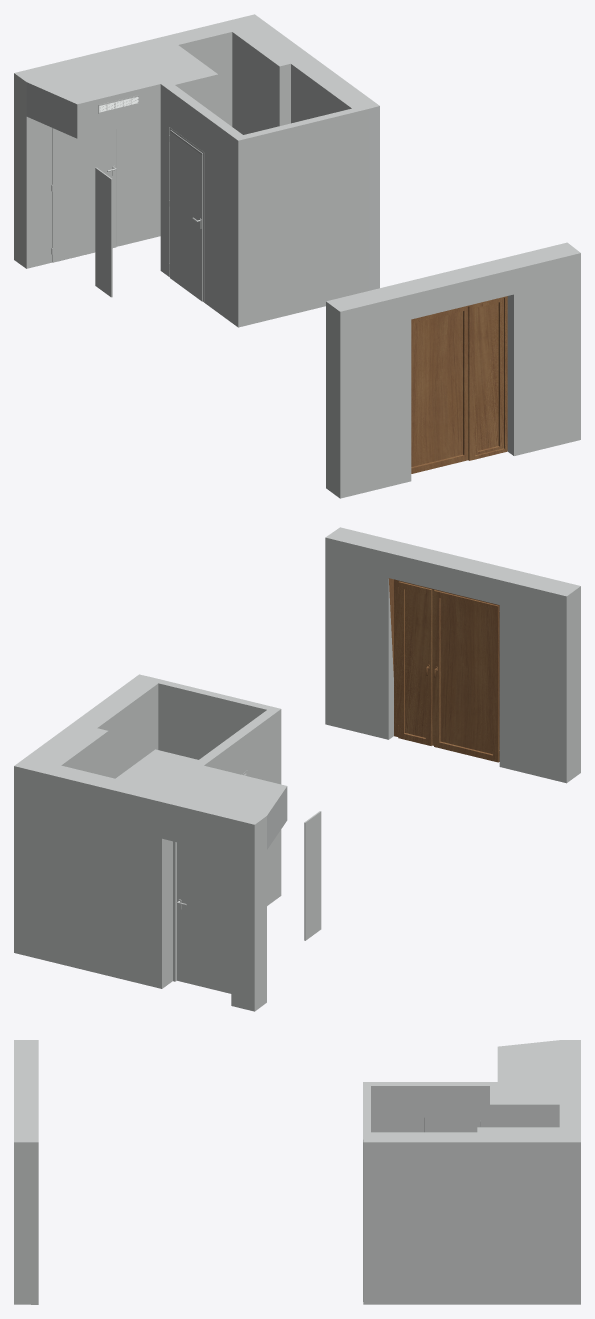
Rendered from Room.gltf.
The picture shows the model from 3 angles, top to bottom: view 1: azimuth 30°, elevation 25°; view 2: azimuth 150°, elevation 25°; view 3: azimuth 270°, elevation 25°; orthographic projection. The views are drawn at different scales.
Visible parts, largest first — view 1: Room, Door_01; view 2: Room, Door_01; view 3: Room.
Part boxes in pixels (x1,y1,x2,y2): Room: [14, 14, 580, 498]; Door_01: [411, 296, 507, 473]; Room: [14, 527, 580, 1011]; Door_01: [388, 578, 499, 762]; Room: [14, 1040, 580, 1304].
Size of the model in its own units: 3.53 by 2.61 by 8.26.
Materials: 3 (2 with a texture image).
